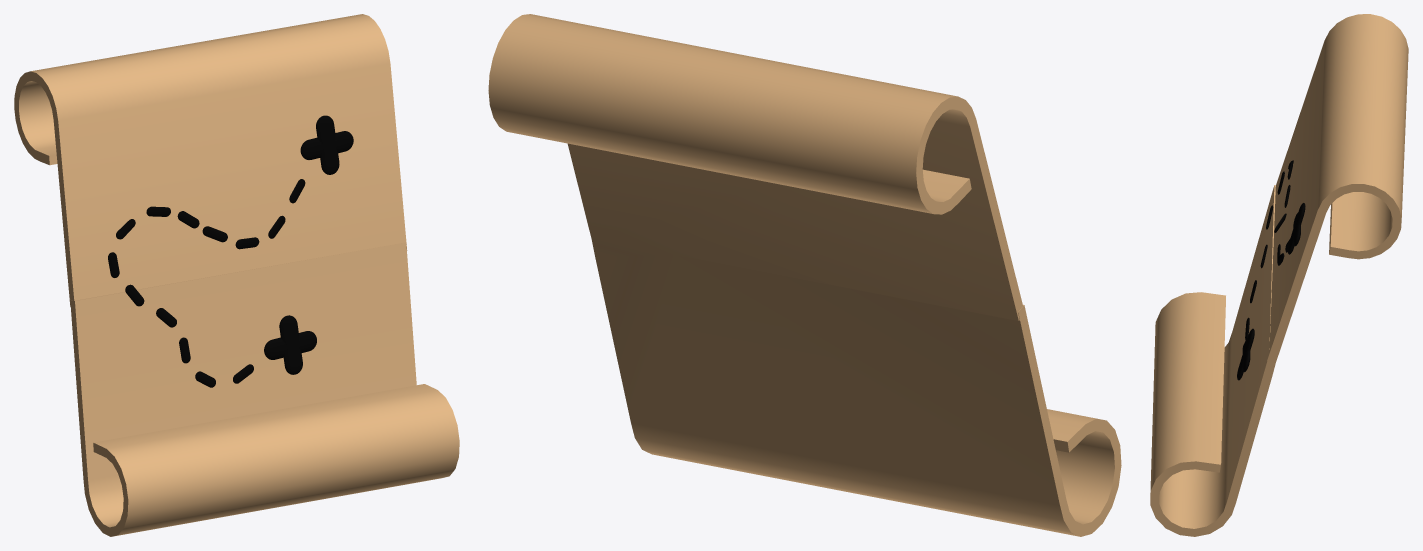
Rendered from map.fbx.
The picture shows the model from 3 angles, left to right: view 1: azimuth 30°, elevation 25°; view 2: azimuth 150°, elevation 25°; view 3: azimuth 270°, elevation 25°; orthographic projection. The views are drawn at different scales.
Parts seen in each view (by area): view 1: Plane001, Capsule002, Capsule013; view 2: Plane001; view 3: Plane001, Capsule013, Capsule002.
Boxes of the visible parts, x1=… form: Plane001: x1=14, y1=14, x2=459, y2=536; Capsule002: x1=300, y1=115, x2=353, y2=174; Capsule013: x1=264, y1=315, x2=316, y2=374; Plane001: x1=488, y1=14, x2=1121, y2=536; Plane001: x1=1150, y1=14, x2=1408, y2=536; Capsule013: x1=1237, y1=328, x2=1254, y2=380; Capsule002: x1=1287, y1=203, x2=1305, y2=254.
Bounding box in the file's own units: 42.21 × 46.54 × 28.44.
